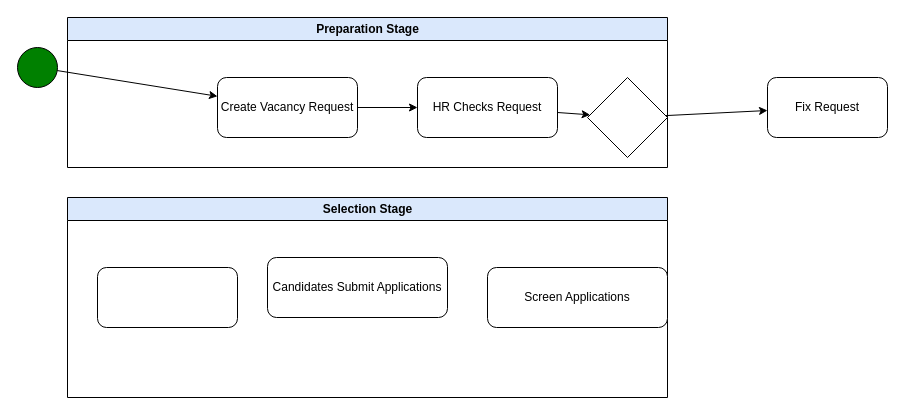
Some shapes in this 905 by 415 pixel diagram are drawn without their labels. The shapes that lost their labels are listed below. From the top down, each one's centre as x and y in pixels, then its label:
At point 37,67: "Start".
At point 627,117: "Request Meets Requirements?".
At point 167,297: "Publish Vacancy".
